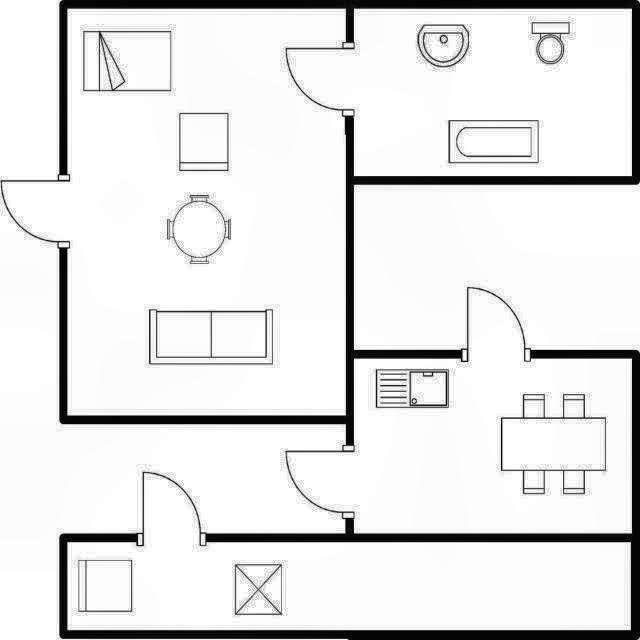room: (67, 9, 346, 416), (67, 542, 631, 630), (354, 359, 632, 534), (354, 9, 632, 176)
